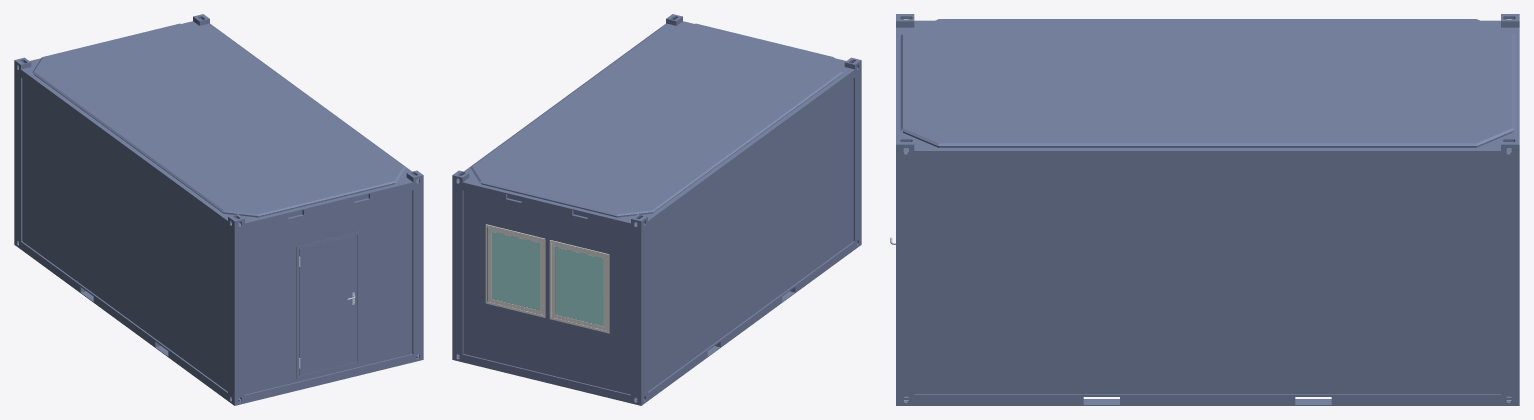
The model's file is Büro stirnseitig HC 2800 BC 3000.obj.
The picture shows the model from 3 angles, left to right: view 1: azimuth 30°, elevation 25°; view 2: azimuth 150°, elevation 25°; view 3: azimuth 270°, elevation 25°; orthographic projection. The views are drawn at different scales.
Parts seen in each view (by area): view 1: |Test_Bürocontainer~0|Root|Test-Büro2~0-1|color, |Test_Bürocontainer~0|Root|Cont-Tür~0-2|color-2; view 2: |Test_Bürocontainer~0|Root|Test-Büro2~0-1|color, |Test_Bürocontainer~0|Root|Cont-Fenster~0-1|color-4, |Test_Bürocontainer~0|Root|Cont-Fenster~0-3|color-4, |Test_Bürocontainer~0|Root|Cont-Fenster~0-1|color-5, |Test_Bürocontainer~0|Root|Cont-Fenster~0-3|color-5; view 3: |Test_Bürocontainer~0|Root|Test-Büro2~0-1|color.
Part boxes in pixels (bbox=[...]): |Test_Bürocontainer~0|Root|Test-Büro2~0-1|color: bbox=[14, 14, 423, 405]; |Test_Bürocontainer~0|Root|Cont-Tür~0-2|color-2: bbox=[296, 231, 359, 378]; |Test_Bürocontainer~0|Root|Test-Büro2~0-1|color: bbox=[452, 14, 861, 405]; |Test_Bürocontainer~0|Root|Cont-Fenster~0-1|color-4: bbox=[491, 231, 539, 310]; |Test_Bürocontainer~0|Root|Cont-Fenster~0-3|color-4: bbox=[555, 247, 603, 325]; |Test_Bürocontainer~0|Root|Cont-Fenster~0-1|color-5: bbox=[485, 224, 545, 317]; |Test_Bürocontainer~0|Root|Cont-Fenster~0-3|color-5: bbox=[549, 240, 609, 333]; |Test_Bürocontainer~0|Root|Test-Büro2~0-1|color: bbox=[896, 14, 1519, 405].
Size of the model in its own units: 3 by 2.8 by 6.11.
